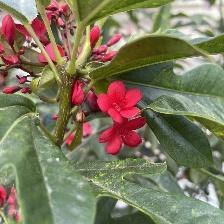jatropha: (95, 82, 144, 126)
